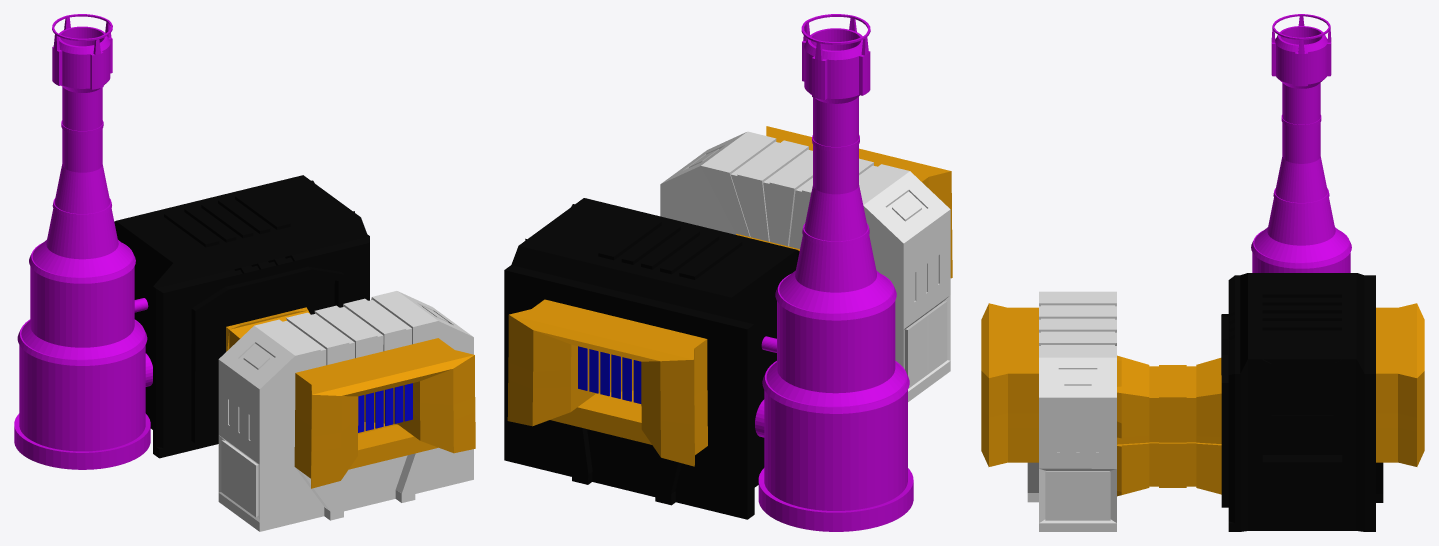
File: Machine-Low.fbx
3 renders of one model, left to right at view 1: azimuth 30°, elevation 25°; view 2: azimuth 150°, elevation 25°; view 3: azimuth 270°, elevation 25°, orthographic. The views are drawn at different scales.
Parts seen in each view (by area): view 1: Machine-Low; view 2: Machine-Low; view 3: Machine-Low.
Part boxes in pixels (x1,y1,x2,y2): Machine-Low: (14, 14, 475, 531); Machine-Low: (504, 14, 952, 531); Machine-Low: (981, 14, 1424, 531).
Size of the model in its own units: 138 by 175 by 180.
